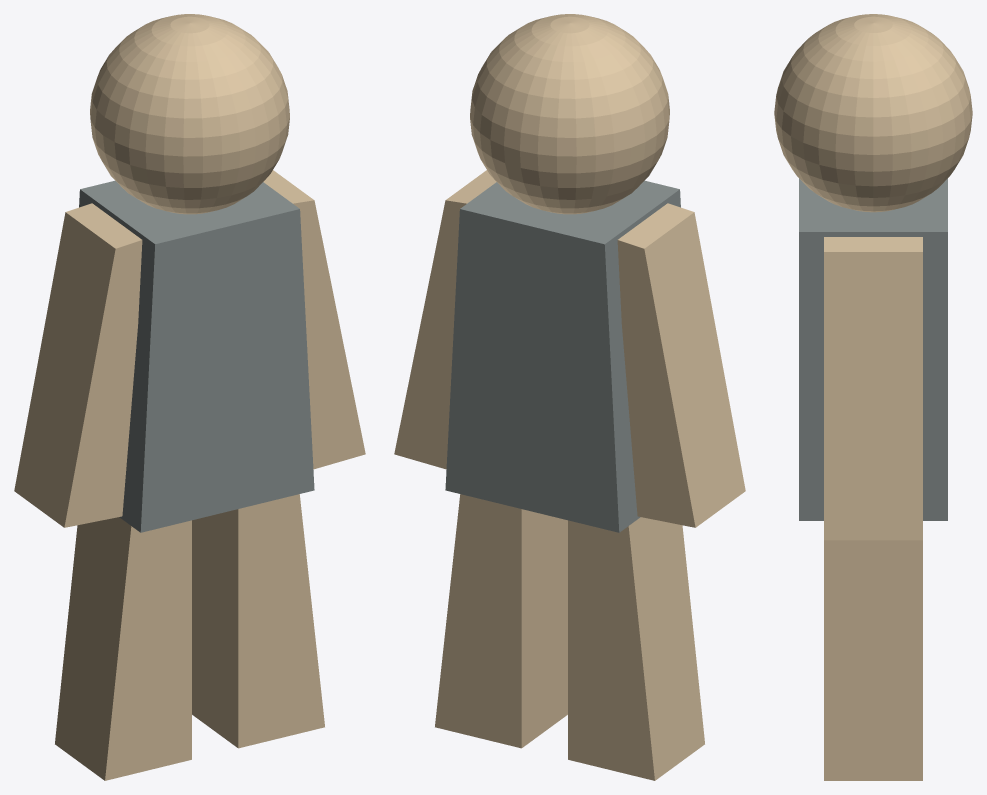
The model's file is samplecharacter.glb.
The picture shows the model from 3 angles, left to right: view 1: azimuth 30°, elevation 25°; view 2: azimuth 150°, elevation 25°; view 3: azimuth 270°, elevation 25°; orthographic projection.
Parts seen in each view (by area): view 1: Torso, Head, Left Leg, Left Arm, Right Leg, Right Arm; view 2: Torso, Head, Left Leg, Left Arm, Right Leg, Right Arm; view 3: Head, Right Arm, Right Leg, Torso.
Part boxes in pixels (x1,y1,x2,y2): Torso: (79, 180, 314, 532); Head: (90, 14, 289, 214); Left Leg: (55, 517, 191, 780); Left Arm: (14, 203, 142, 527); Right Leg: (192, 494, 324, 748); Right Arm: (263, 170, 365, 469); Torso: (445, 180, 680, 532); Head: (470, 14, 669, 214); Left Leg: (568, 517, 704, 780); Left Arm: (617, 203, 745, 527); Right Leg: (435, 494, 567, 748); Right Arm: (394, 170, 496, 469); Head: (774, 14, 972, 212); Right Arm: (824, 237, 922, 540); Right Leg: (824, 540, 922, 780); Torso: (799, 178, 947, 520).
Bounding box in the file's own units: 1.04 × 2.35 × 0.6.
